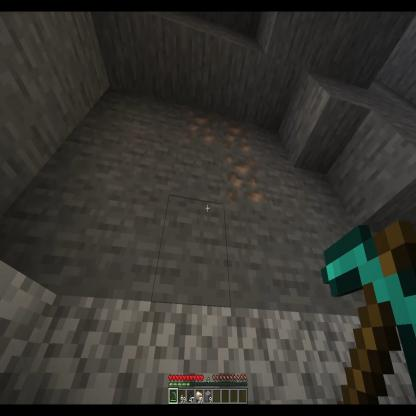iron ore: (220, 158, 266, 209), (182, 106, 220, 154), (218, 117, 256, 158)
